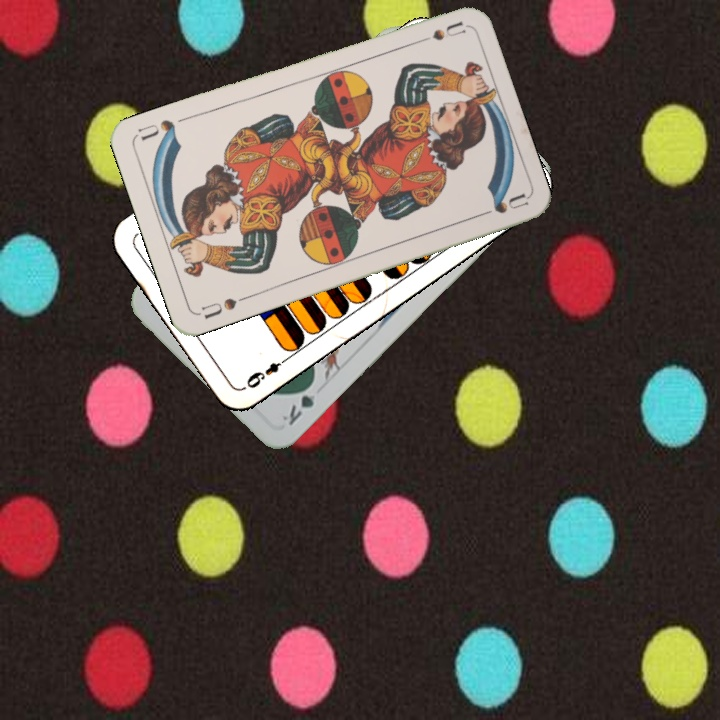E9: (242, 352, 292, 391)
GK: (278, 376, 318, 429)
SU: (409, 17, 468, 48), (195, 291, 252, 322)
